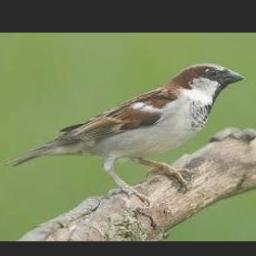Sparrow: (1, 63, 244, 205)
